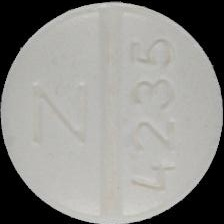0093-4235: (0, 0, 224, 224)
